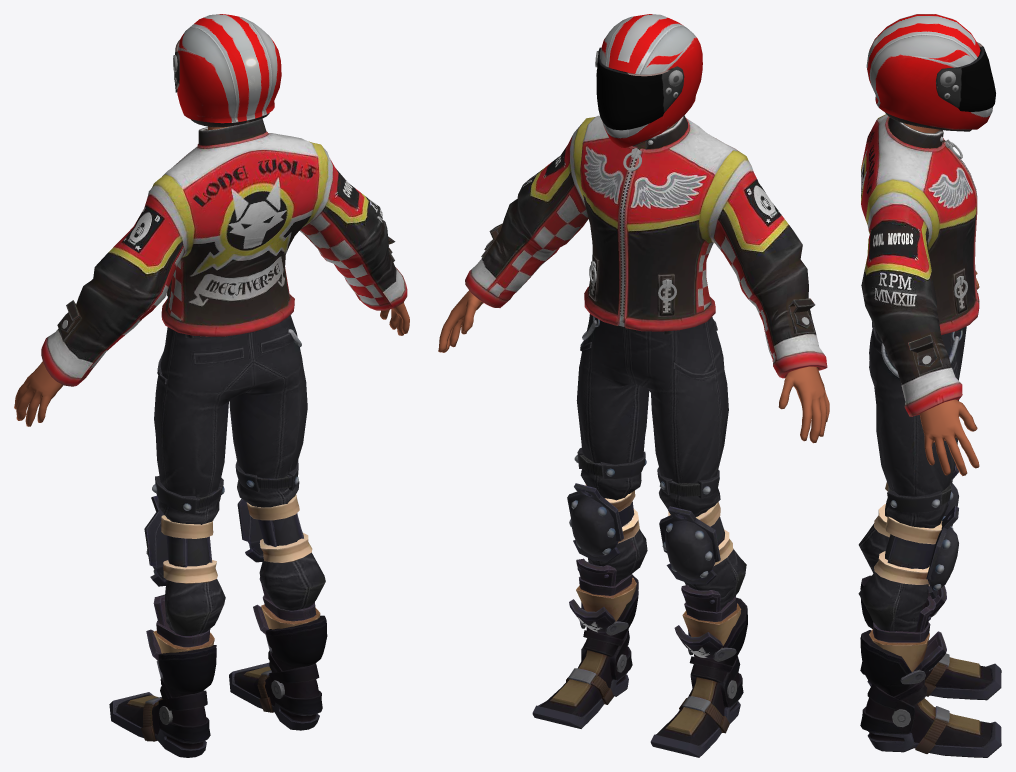
The model's file is driver_human_standing.glb.
3 renders of one model, left to right at view 1: azimuth 30°, elevation 25°; view 2: azimuth 150°, elevation 25°; view 3: azimuth 270°, elevation 25°, orthographic.
Visible parts, largest first — view 1: Object_105_baked, Object_101_baked, Object_103_baked, Object_97_baked, Object_99_baked; view 2: Object_105_baked, Object_101_baked, Object_103_baked, Object_97_baked, Object_99_baked; view 3: Object_105_baked, Object_101_baked, Object_97_baked, Object_103_baked, Object_99_baked.
Part boxes in pixels (box(x1,y1,x2,y2)): Object_105_baked: box(41, 118, 407, 386); Object_101_baked: box(144, 300, 325, 660); Object_103_baked: box(109, 615, 327, 757); Object_97_baked: box(173, 14, 281, 127); Object_99_baked: box(14, 299, 409, 426); Object_105_baked: box(465, 115, 827, 378); Object_101_baked: box(567, 314, 746, 658); Object_103_baked: box(532, 575, 747, 757); Object_97_baked: box(595, 14, 702, 147); Object_99_baked: box(438, 290, 829, 443); Object_105_baked: box(861, 114, 979, 416); Object_101_baked: box(858, 322, 966, 673); Object_97_baked: box(866, 14, 995, 131); Object_103_baked: box(860, 575, 1001, 757); Object_99_baked: box(919, 271, 979, 475).
Size of the model in its own units: 0.9673 by 1.7 by 0.3151.
8 materials, 8 textured.
